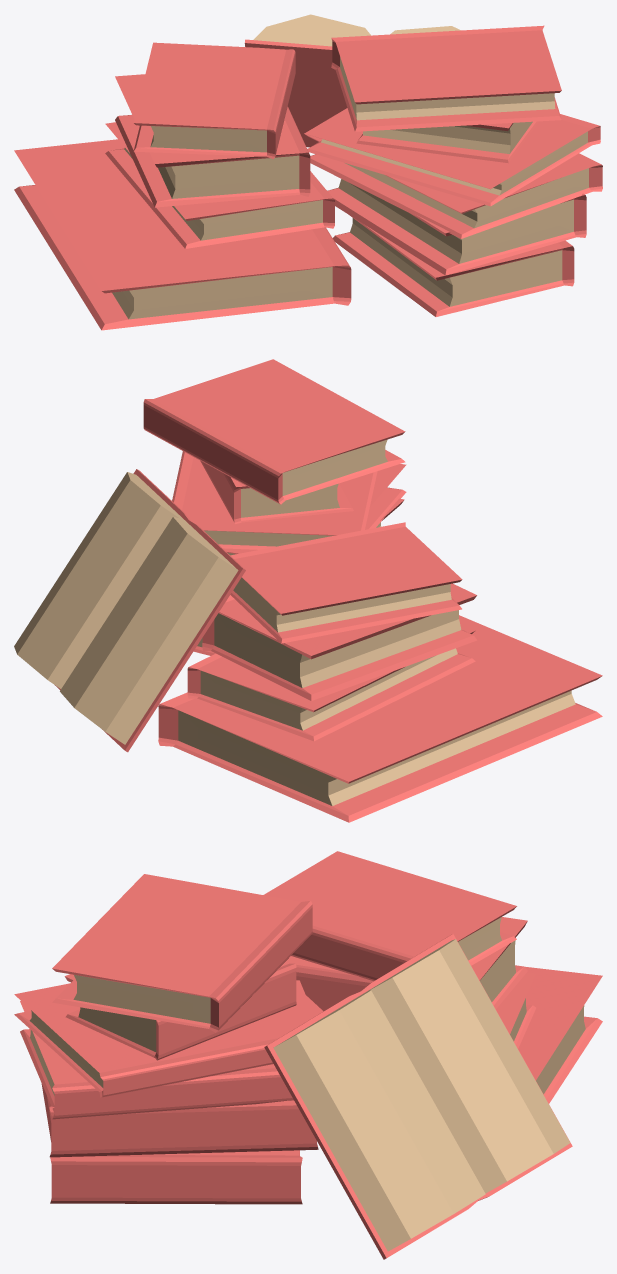
File: bookPile.fbx
The picture shows the model from 3 angles, top to bottom: view 1: azimuth 30°, elevation 25°; view 2: azimuth 150°, elevation 25°; view 3: azimuth 270°, elevation 25°; orthographic projection. The views are drawn at different scales.
Visible parts, largest first — view 1: Book.081, Book.080, Book.084, Book.078, Book.083, Book.075, Book.076, Book.077, Book.082, Cube.006, Book.079; view 2: Book.081, Cube.006, Book.080, Book.084, Book.083, Book.082, Book.078, Book.079, Book.077; view 3: Cube.006, Book.080, Book.084, Book.075, Book.078, Book.076, Book.077, Book.081, Book.079, Book.083, Book.082.
Boxes of the visible parts, bbox=[...] form: Book.081: bbox=[14, 139, 351, 330]; Book.080: bbox=[331, 25, 561, 131]; Book.084: bbox=[133, 42, 295, 159]; Book.078: bbox=[304, 108, 600, 206]; Book.083: bbox=[115, 74, 310, 207]; Book.075: bbox=[333, 215, 574, 316]; Book.076: bbox=[327, 179, 586, 275]; Book.077: bbox=[304, 133, 602, 238]; Book.082: bbox=[105, 122, 334, 248]; Cube.006: bbox=[244, 14, 460, 147]; Book.079: bbox=[356, 121, 538, 163]; Book.081: bbox=[158, 615, 602, 822]; Cube.006: bbox=[14, 469, 245, 752]; Book.080: bbox=[143, 359, 405, 504]; Book.084: bbox=[230, 522, 462, 643]; Book.083: bbox=[202, 583, 477, 700]; Book.082: bbox=[187, 625, 475, 741]; Book.078: bbox=[172, 451, 377, 549]; Book.079: bbox=[200, 461, 353, 523]; Book.077: bbox=[223, 464, 406, 555]; Cube.006: bbox=[264, 934, 572, 1259]; Book.080: bbox=[52, 874, 312, 1032]; Book.084: bbox=[263, 851, 516, 980]; Book.075: bbox=[50, 1150, 302, 1204]; Book.078: bbox=[14, 983, 323, 1097]; Book.076: bbox=[41, 1084, 318, 1157]; Book.077: bbox=[20, 980, 305, 1119]; Book.081: bbox=[518, 966, 602, 1103]; Book.079: bbox=[64, 962, 296, 1060]; Book.083: bbox=[285, 917, 527, 1011]; Book.082: bbox=[496, 972, 536, 1048].
Bounding box in the file's own units: 73.14 × 28.91 × 65.57.
